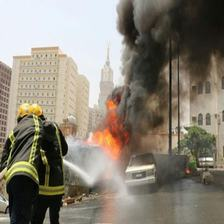fire: (84, 68, 169, 154)
